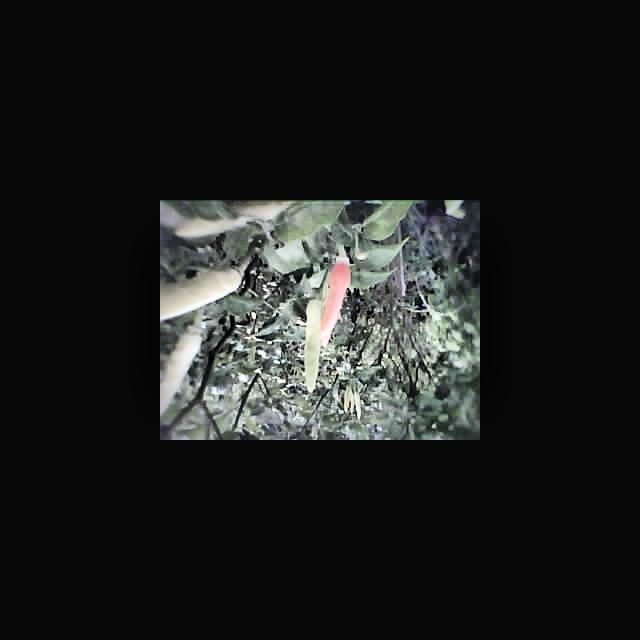Cabai: (322, 256, 361, 339)
